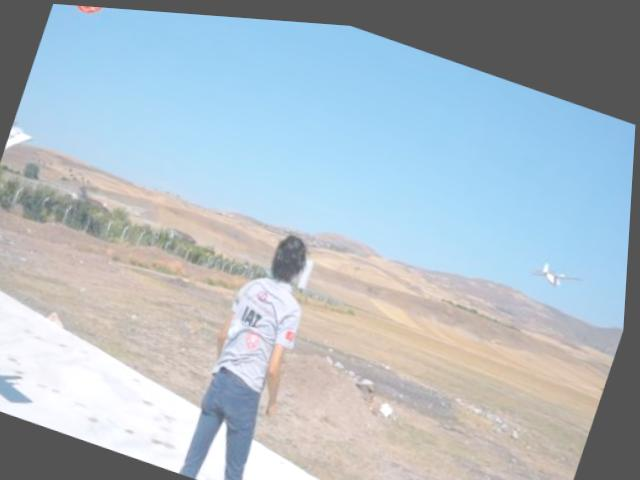uav: (528, 246, 589, 285)
